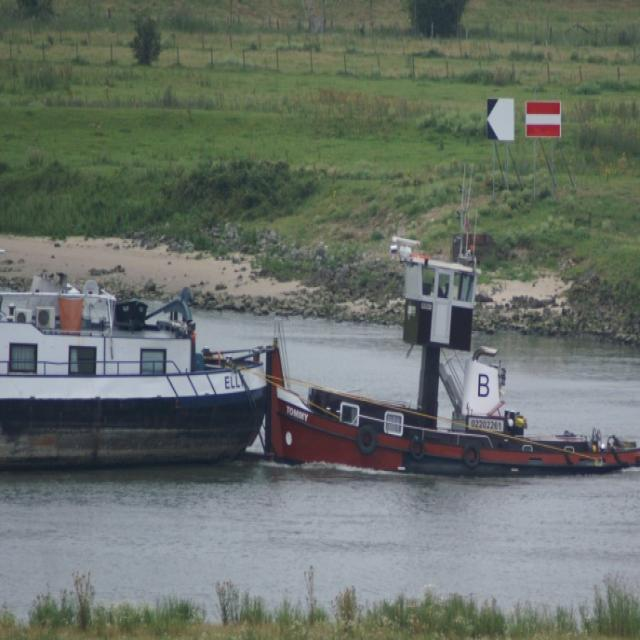tugboat: (260, 240, 640, 497)
